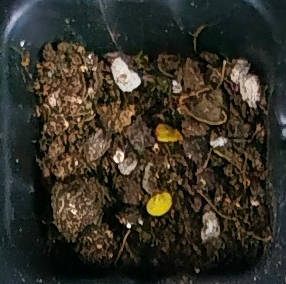chilli seed: (145, 190, 173, 217), (154, 122, 184, 142)
